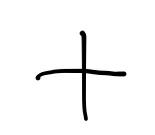plus: (32, 31, 126, 120)
